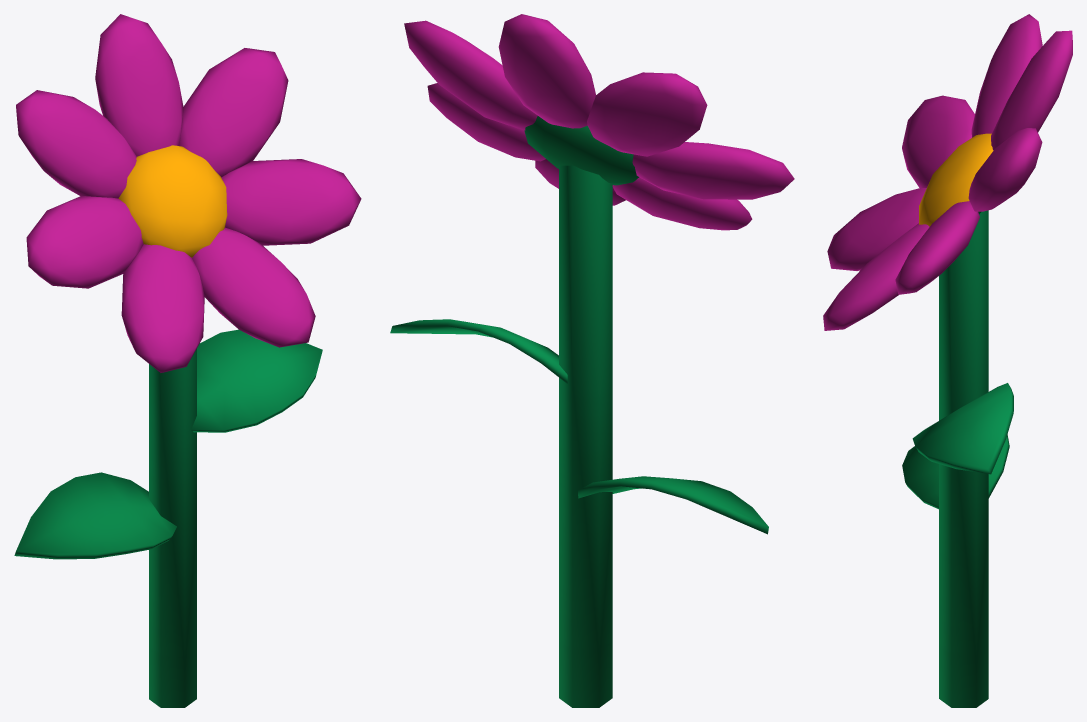
Rendered from Flover_01.fbx.
3 renders of one model, left to right at view 1: azimuth 30°, elevation 25°; view 2: azimuth 150°, elevation 25°; view 3: azimuth 270°, elevation 25°, orthographic. The views are drawn at different scales.
Parts seen in each view (by area): view 1: Flover_01; view 2: Flover_01; view 3: Flover_01.
Part boxes in pixels (x1=…): Flover_01: x1=14, y1=14, x2=361, y2=707; Flover_01: x1=390, y1=14, x2=794, y2=707; Flover_01: x1=823, y1=14, x2=1072, y2=707.
Bounding box in the file's own units: 33.45 × 21.31 × 62.92.
